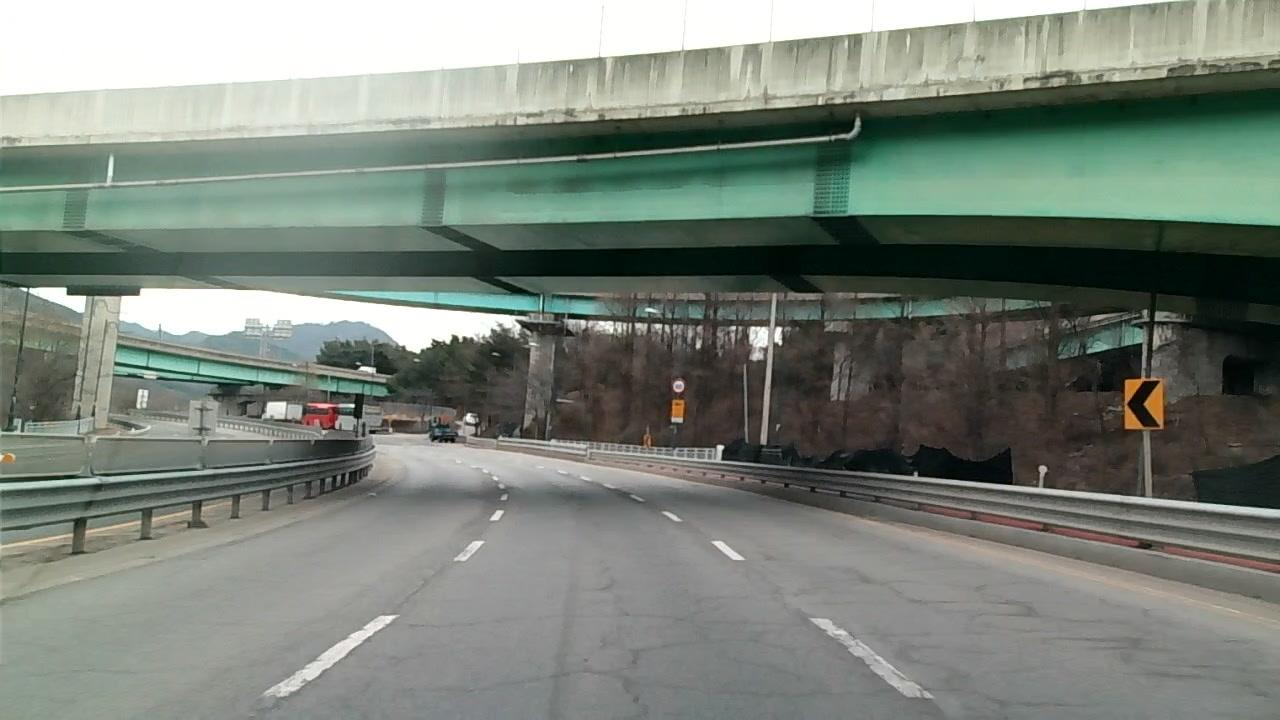hcrack: (398, 670, 555, 699), (667, 682, 842, 695), (396, 615, 511, 630)
vcrack: (589, 557, 659, 720), (901, 577, 1042, 634), (1073, 629, 1214, 681), (399, 565, 456, 609)
